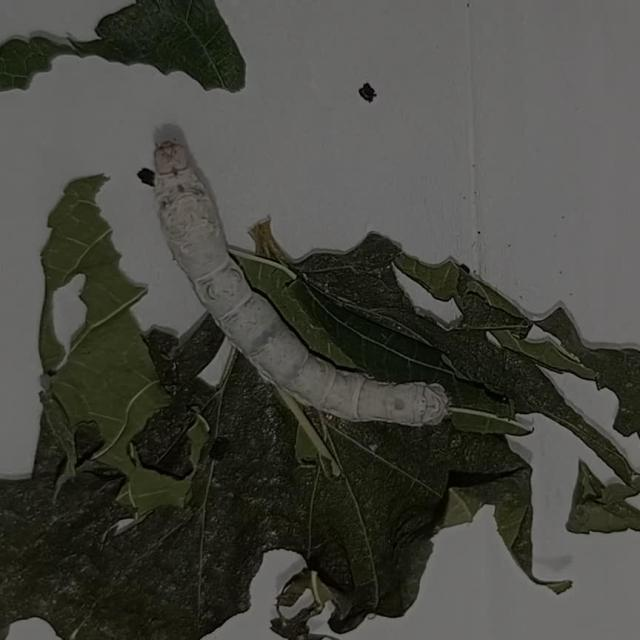Healthy: (141, 125, 469, 446)
